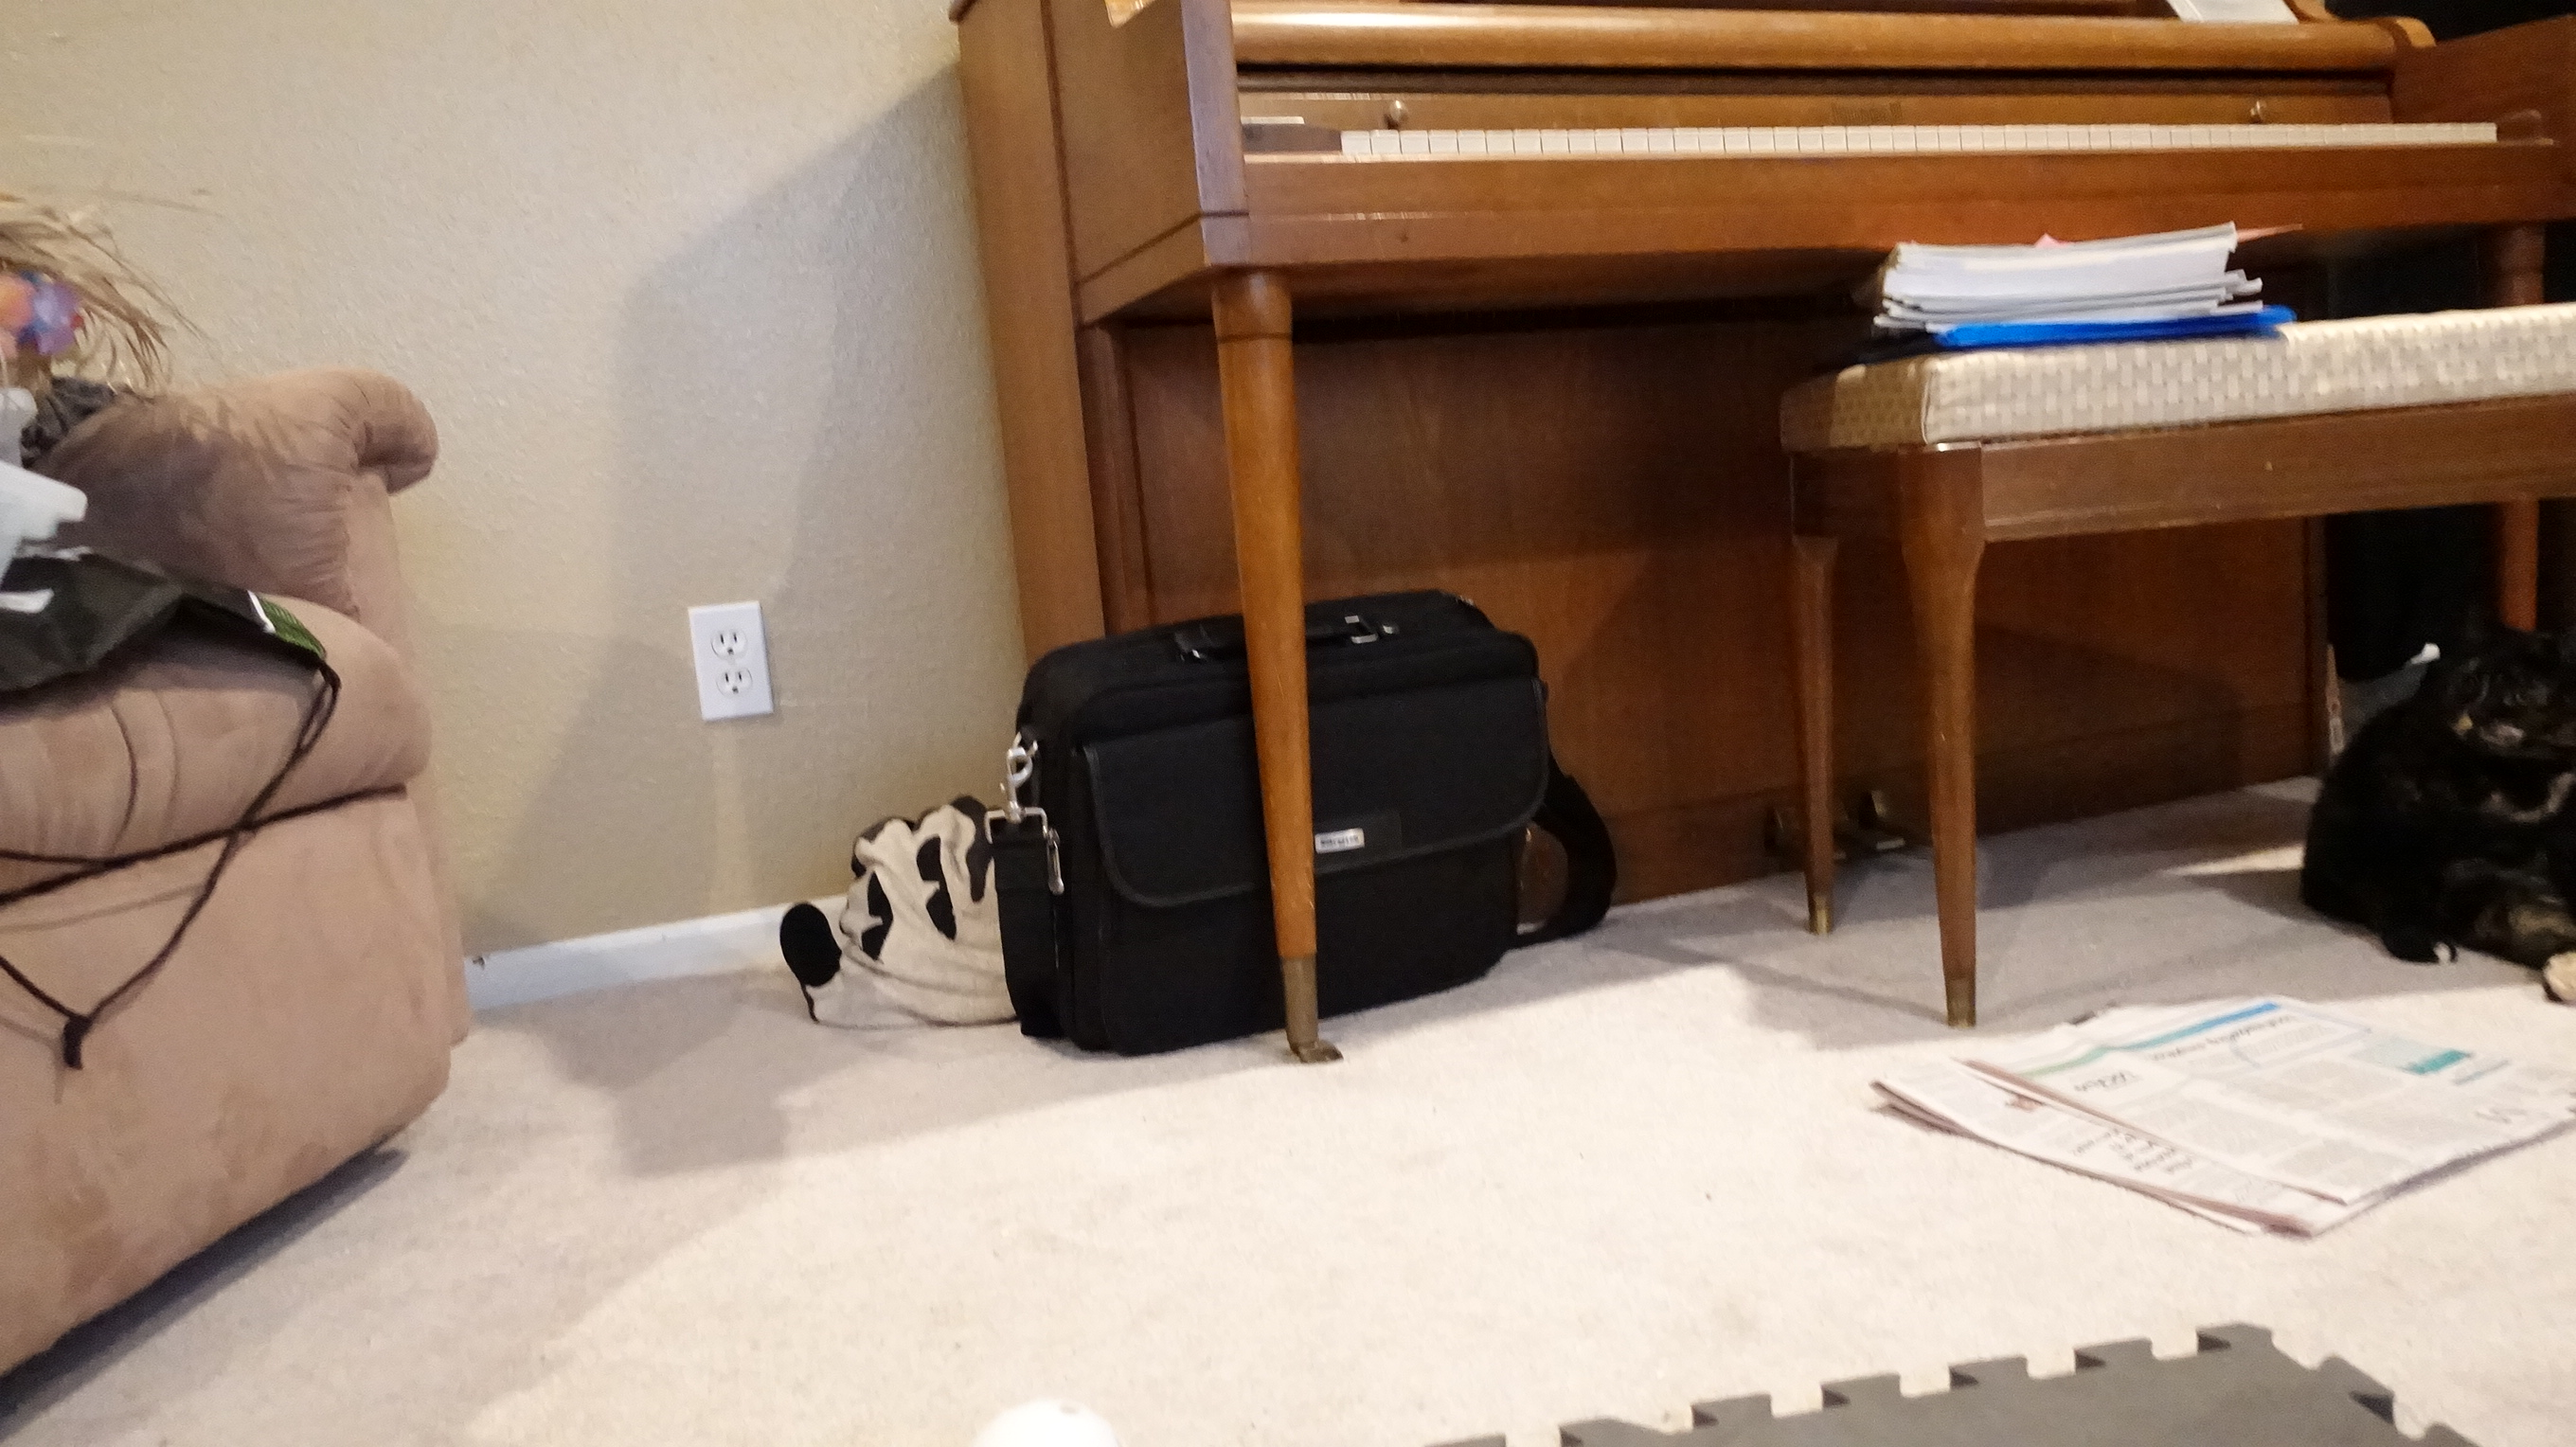silver: (945, 1399, 1127, 1447)
